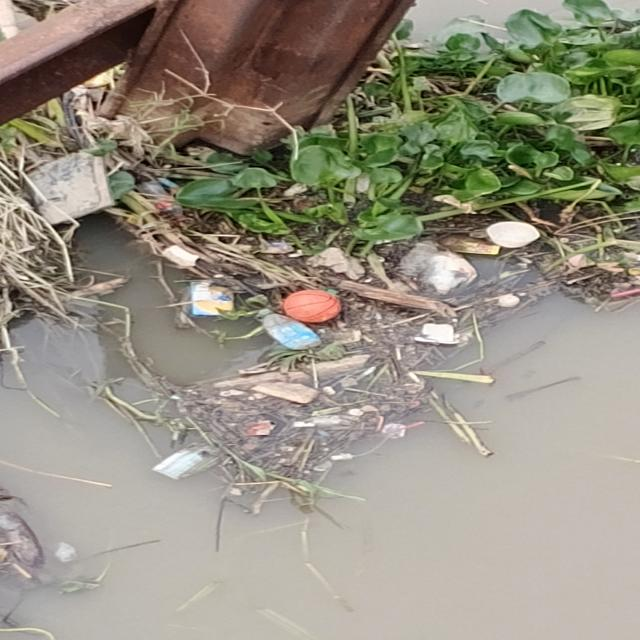Electronic Waste: (9, 150, 118, 228)
Metal: (0, 0, 433, 168)
Organic Debris: (0, 0, 631, 562)
Plastic: (394, 234, 476, 301), (245, 306, 336, 357), (181, 273, 249, 326), (396, 314, 483, 355), (154, 436, 224, 485), (430, 222, 502, 261), (477, 212, 545, 251), (282, 287, 352, 323), (227, 412, 286, 443), (43, 532, 87, 570), (384, 416, 422, 447), (323, 444, 366, 468), (230, 482, 256, 502)
